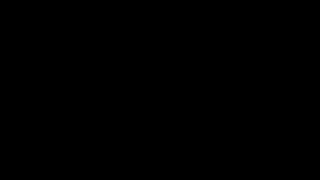go_ahead: (258, 22, 301, 55)
